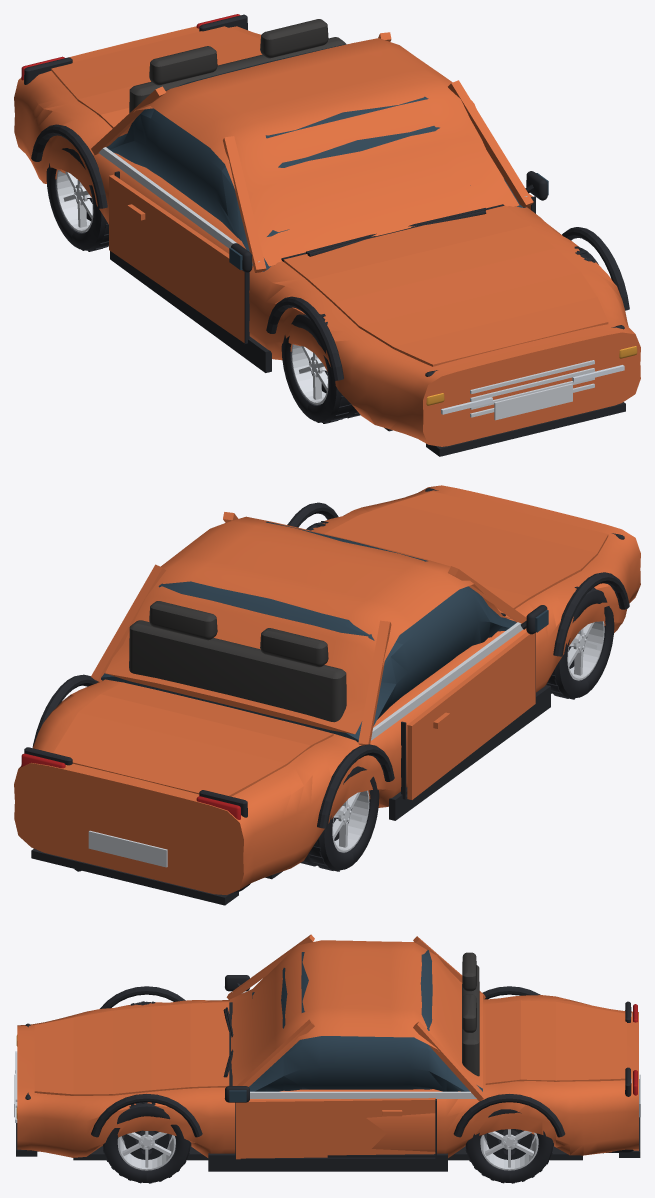
Rendered from TouringCoupeHD.fbx.
3 renders of one model, top to bottom at view 1: azimuth 30°, elevation 25°; view 2: azimuth 150°, elevation 25°; view 3: azimuth 270°, elevation 25°, orthographic. The views are drawn at different scales.
Parts seen in each view (by area): view 1: body_coupe_0, body_bonnet.001, trim_coupe_1, body_door-front-left.001, glass_coupe_2, body_boot.001, interior_coupe_3, rim_coupe_6, trim_wheel-front-left_trim, trim_wheel-rear-left_trim, rim_wheel-rear-left_alloy, rim_wheel-front-left_alloy (+1 smaller); view 2: body_coupe_0, body_boot.001, body_bonnet.001, interior_coupe_3, glass_coupe_2, trim_coupe_1, body_door-front-left.001, rim_coupe_6, trim_wheel-front-left_trim, trim_wheel-rear-left_trim, rim_wheel-rear-left_alloy, rim_wheel-front-left_alloy (+1 smaller); view 3: body_coupe_0, body_bonnet.001, body_boot.001, trim_coupe_1, glass_coupe_2, body_door-front-right.001, trim_wheel-front-right_trim, trim_wheel-rear-right_trim, interior_coupe_3, rim_coupe_6, rim_wheel-rear-right_alloy, rim_wheel-front-right_alloy.
Part boxes in pixels (x1,y1,x2,y2): body_coupe_0: (14,26,640,446); body_bonnet.001: (284,205,608,366); trim_coupe_1: (24,14,629,456); body_door-front-left.001: (109,174,244,342); glass_coupe_2: (106,44,548,271); body_boot.001: (51,26,262,128); interior_coupe_3: (129,19,345,112); rim_coupe_6: (99,147,594,420); trim_wheel-front-left_trim: (281,314,360,423); trim_wheel-rear-left_trim: (46,148,108,251); rim_wheel-rear-left_alloy: (56,170,93,232); rim_wheel-front-left_alloy: (291,344,328,404); body_coupe_0: (14,485,640,894); body_boot.001: (53,682,333,796); body_bonnet.001: (324,491,608,613); interior_coupe_3: (129,601,346,722); glass_coupe_2: (101,521,548,742); trim_coupe_1: (24,488,629,905); body_door-front-left.001: (407,632,535,799); rim_coupe_6: (88,622,523,867); trim_wheel-front-left_trim: (546,586,614,699); trim_wheel-rear-left_trim: (300,766,379,871); rim_wheel-rear-left_alloy: (332,790,369,852); rim_wheel-front-left_alloy: (567,621,604,680); body_coupe_0: (17,934,638,1157); body_bonnet.001: (34,1002,229,1095); body_boot.001: (485,1000,626,1084); trim_coupe_1: (16,975,640,1171); glass_coupe_2: (229,950,482,1101); body_door-front-right.001: (236,1098,435,1159); trim_wheel-front-right_trim: (103,1102,191,1183); trim_wheel-rear-right_trim: (465,1109,553,1183); interior_coupe_3: (462,952,479,1076); rim_coupe_6: (14,991,640,1117); rim_wheel-rear-right_alloy: (480,1129,538,1170); rim_wheel-front-right_alloy: (117,1131,175,1170).
Bounding box in the file's own units: 199 × 125 × 453.
